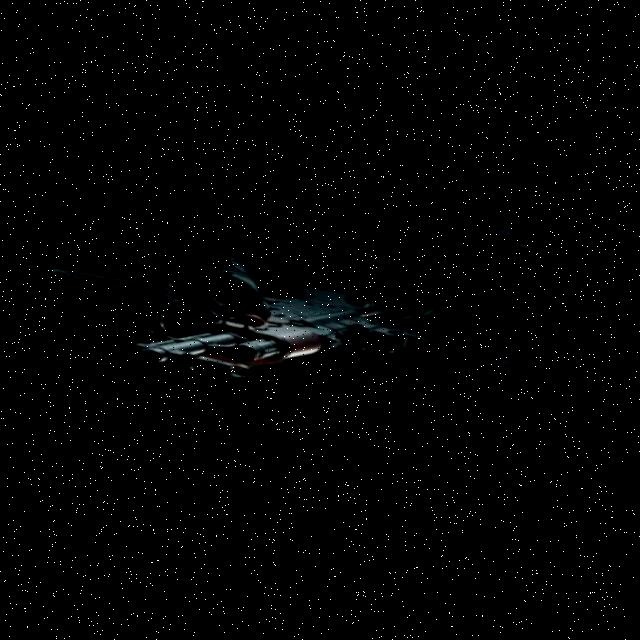firearm: (0, 216, 449, 435)
